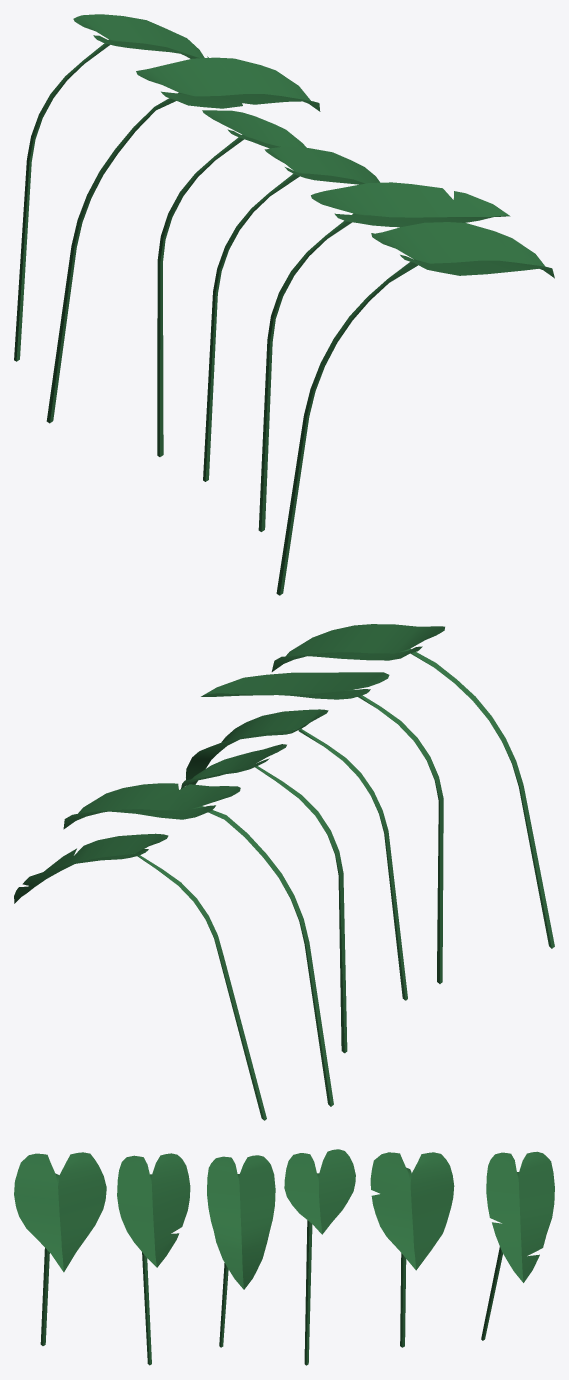
The model's file is plants_philodendron.fbx.
The picture shows the model from 3 angles, top to bottom: view 1: azimuth 30°, elevation 25°; view 2: azimuth 150°, elevation 25°; view 3: azimuth 270°, elevation 25°; orthographic projection. The views are drawn at different scales.
Visible parts, largest first — view 1: plant_ground_philo_A, plant_ground_philo_E, plant_ground_philo_B, plant_ground_philo_F, plant_ground_philo_C, plant_ground_philo_D; view 2: plant_ground_philo_A, plant_ground_philo_E, plant_ground_philo_B, plant_ground_philo_C, plant_ground_philo_F, plant_ground_philo_D; view 3: plant_ground_philo_A, plant_ground_philo_E, plant_ground_philo_C, plant_ground_philo_F, plant_ground_philo_B, plant_ground_philo_D.
Part boxes in pixels (<box>): plant_ground_philo_A: <box>276,222,554,595</box>; plant_ground_philo_E: <box>46,57,320,423</box>; plant_ground_philo_B: <box>258,182,510,531</box>; plant_ground_philo_F: <box>14,14,208,361</box>; plant_ground_philo_C: <box>203,146,379,481</box>; plant_ground_philo_D: <box>157,110,306,456</box>; plant_ground_philo_A: <box>271,624,554,948</box>; plant_ground_philo_E: <box>63,783,333,1106</box>; plant_ground_philo_B: <box>201,672,443,983</box>; plant_ground_philo_C: <box>186,709,407,1000</box>; plant_ground_philo_F: <box>14,833,266,1120</box>; plant_ground_philo_D: <box>181,744,347,1053</box>; plant_ground_philo_A: <box>14,1152,106,1345</box>; plant_ground_philo_E: <box>370,1152,454,1347</box>; plant_ground_philo_C: <box>207,1155,275,1347</box>; plant_ground_philo_F: <box>481,1151,554,1340</box>; plant_ground_philo_B: <box>117,1153,190,1365</box>; plant_ground_philo_D: <box>284,1149,355,1365</box>.
Bounding box in the file's own units: 162 × 158 × 323.
